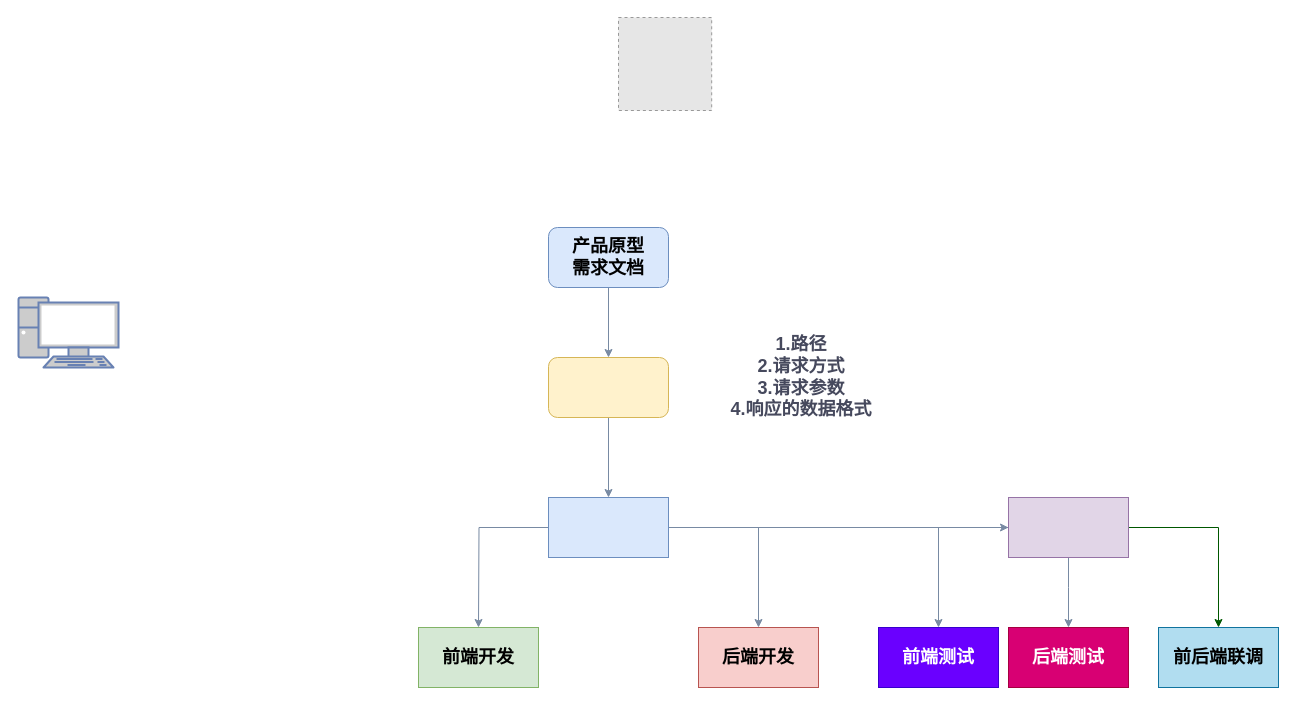
Some shapes in this 1296 by 705 pixel diagram are drawn without their labels. Grey dashed boxes stand in for pictures. The shapes that lost their labels are listed below. From the top down, each one's centre as x and y in pixels, then its label:
At point (608, 387): "接口文档".
At point (608, 527): "开发".
At point (1068, 527): "测试".
